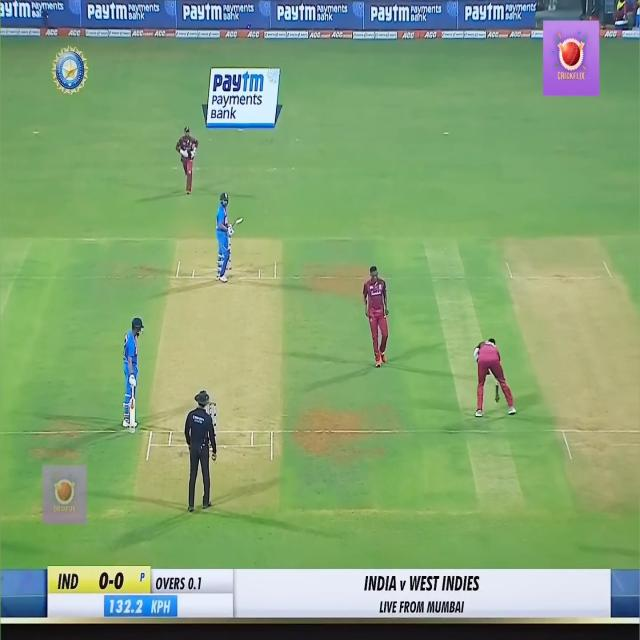fully_visible: (177, 0, 226, 32), (88, 0, 132, 35), (270, 0, 317, 31), (464, 3, 514, 32), (208, 71, 266, 95), (368, 0, 412, 29)
partially_visible: (0, 3, 42, 27)
